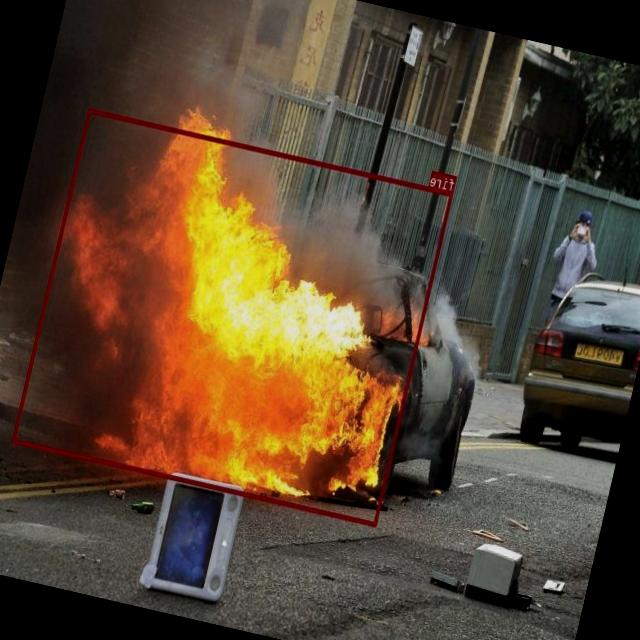fire: (11, 108, 454, 526)
